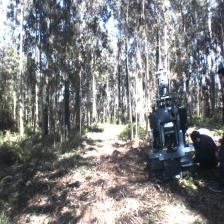trunktrack_idkeyframe: (62, 87, 70, 139)
